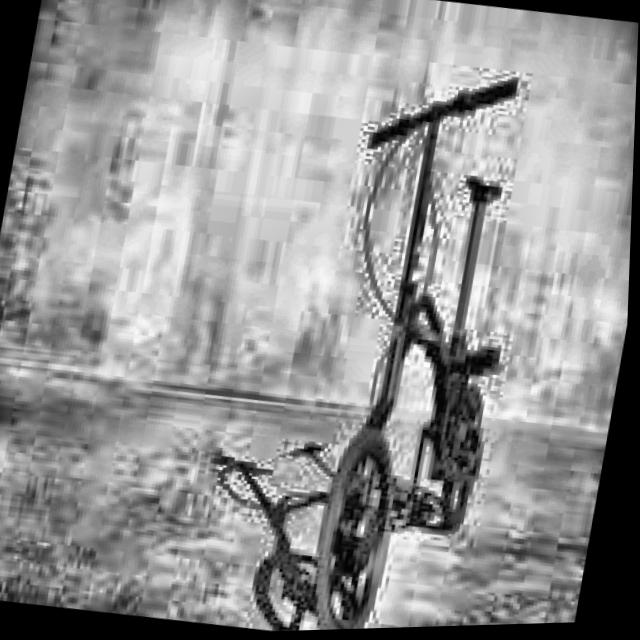bike: (253, 40, 562, 634)
